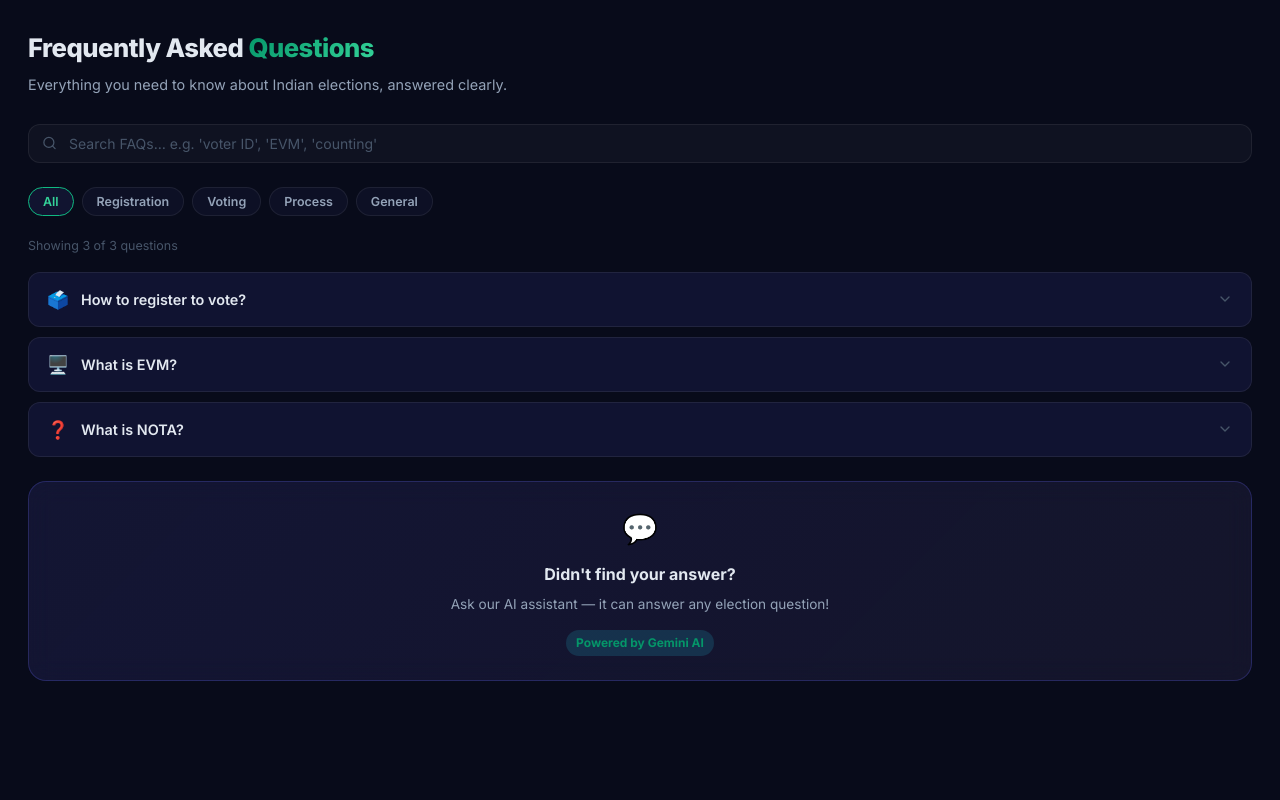
Test case: FAQ Page › filters FAQ items by search query
In the field with placeholder "Search FAQs… e.g. 'voter ID', 'EVM', 'counting'": (640, 144) [28,124,1252,163], type "EVM"
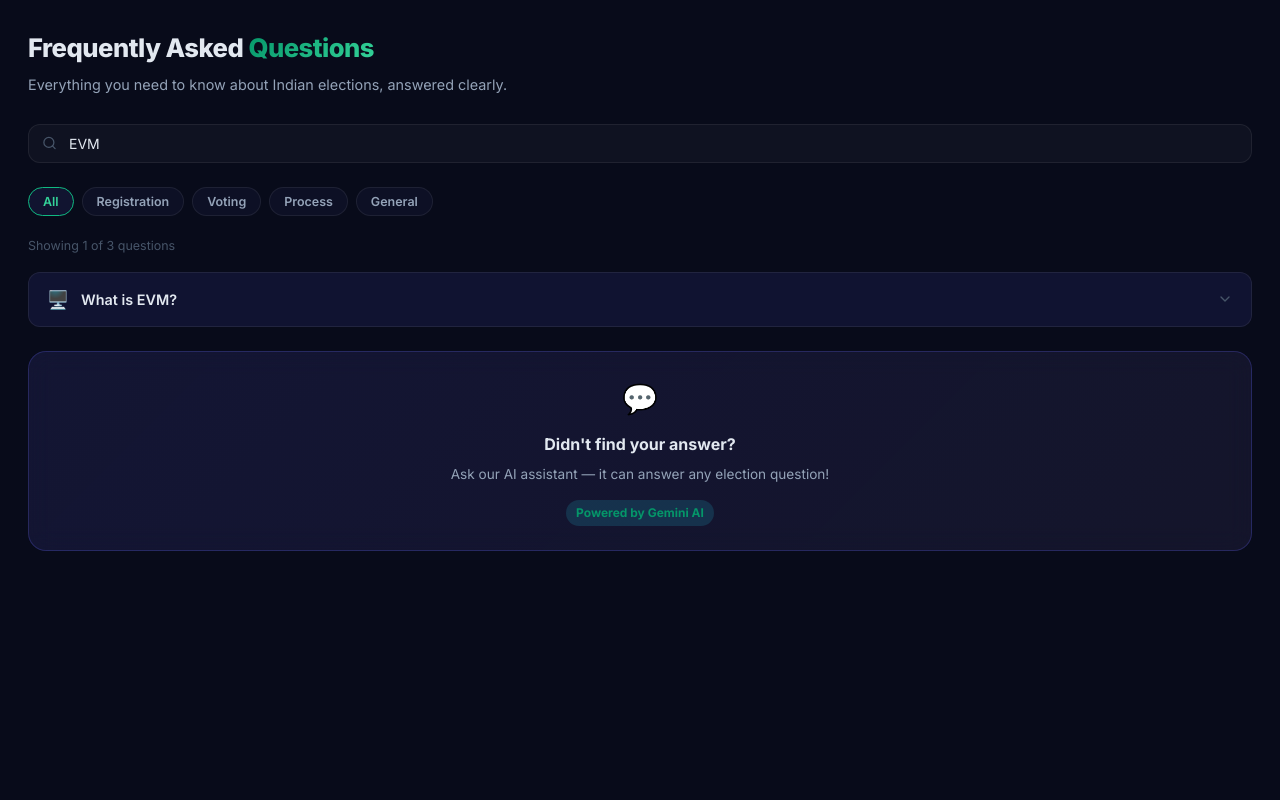
Expected: the text "What is EVM?" is shown, [81,291,177,308]
Expected: the button "How to register to vote?" is gone
